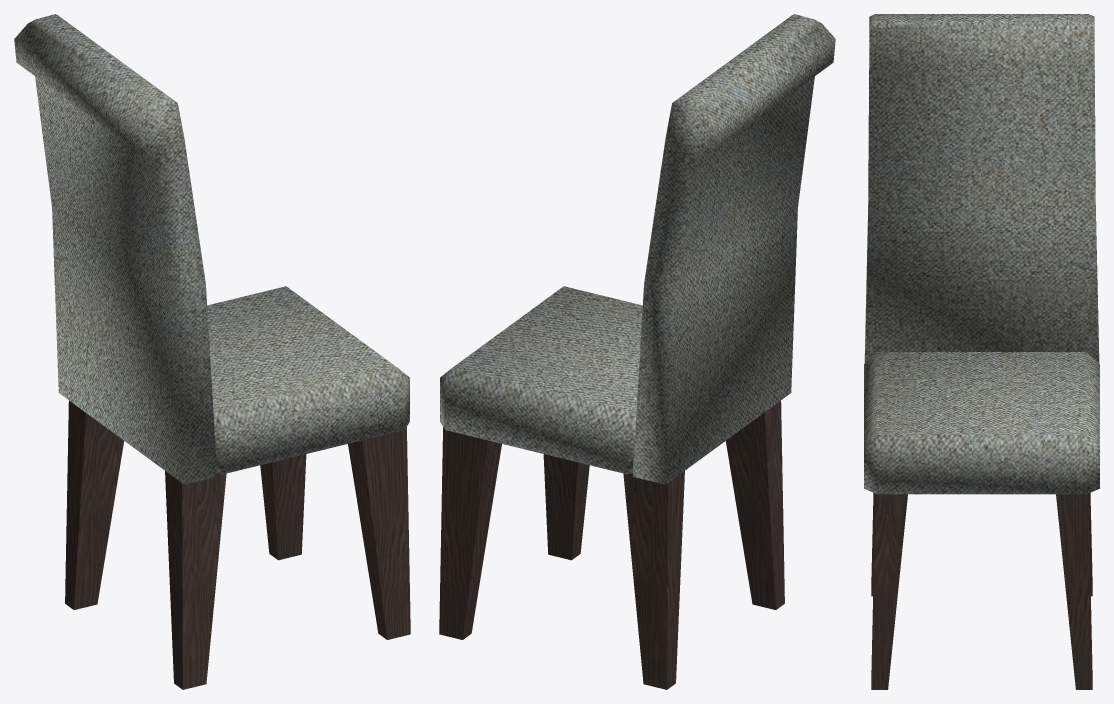
The model's file is Chair_07-col.glb.
3 views of the same model, side by side, from view 1: azimuth 30°, elevation 25°; view 2: azimuth 150°, elevation 25°; view 3: azimuth 270°, elevation 25° (orthographic). The views are drawn at different scales.
Parts seen in each view (by area): view 1: Chair_07-col; view 2: Chair_07-col; view 3: Chair_07-col.
Part boxes in pixels (<box>): Chair_07-col: <box>14,14,410,689</box>; Chair_07-col: <box>439,14,835,689</box>; Chair_07-col: <box>864,14,1099,689</box>.
Bounding box in the file's own units: 0.6311 × 1.28 × 0.4906.
2 materials, 2 textured.
